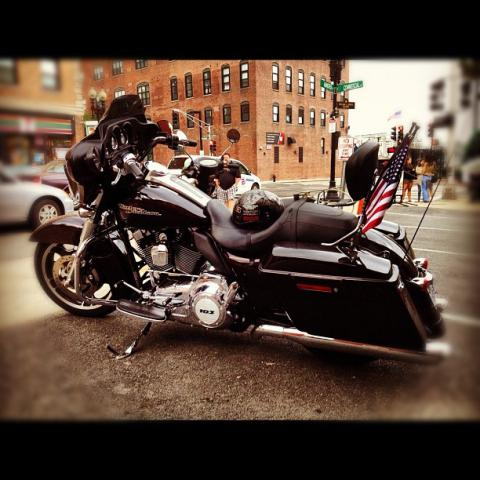car: (0, 160, 76, 227), (167, 154, 262, 198), (15, 158, 75, 202)
motorcycle: (25, 94, 445, 363)
